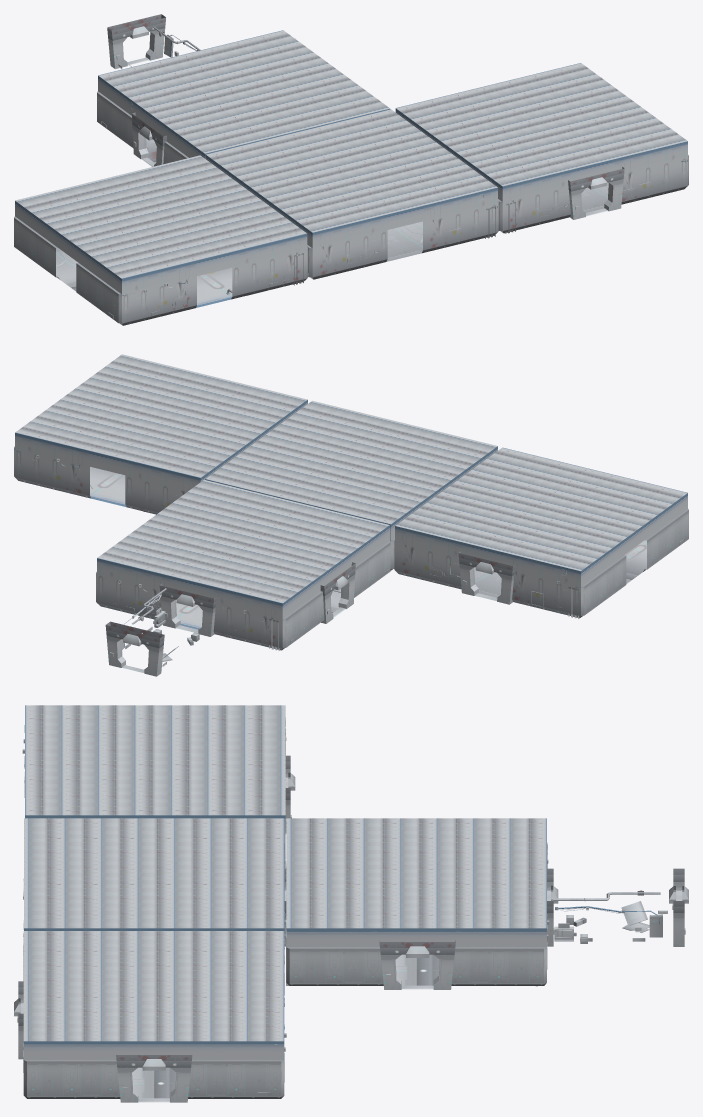
File: Combined_Mesh_root_scene__10_7ad9d44b__ZombiesII_laboratory_01_d_47037629_c1f257_part002.obj
3 views of the same model, one above another, from view 1: azimuth 30°, elevation 25°; view 2: azimuth 150°, elevation 25°; view 3: azimuth 270°, elevation 25° (orthographic). The views are drawn at different scales.
Size of the model in its own units: 124 by 10.21 by 104.
Materials: 261 (261 with a texture image).
